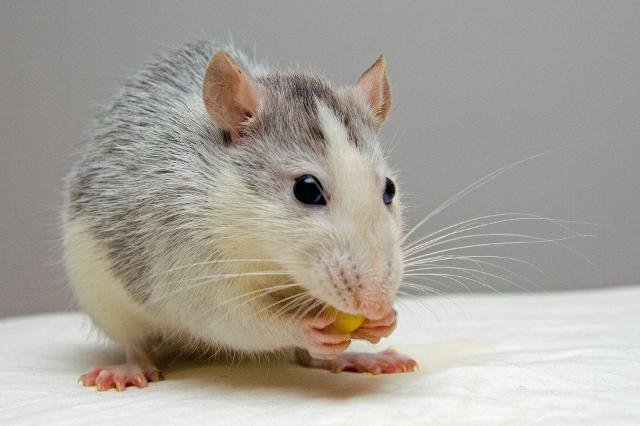rat: (36, 19, 474, 403)
